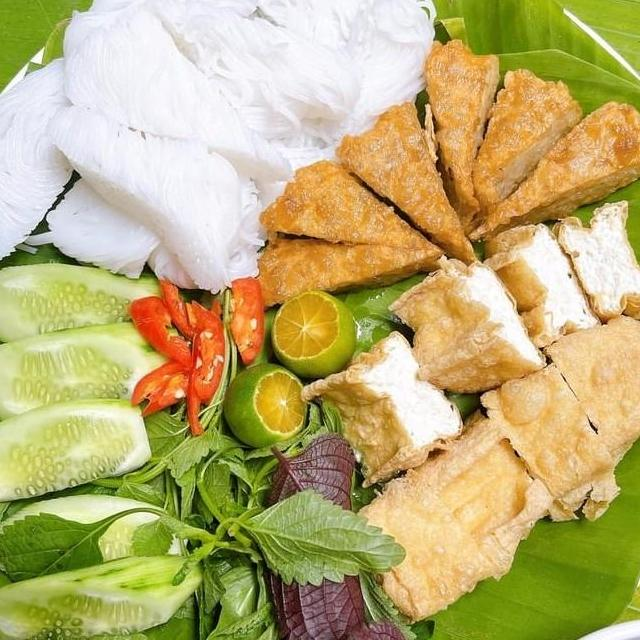bun: (0, 0, 449, 310), (452, 60, 640, 256), (325, 97, 479, 263), (417, 29, 508, 246)
bun dau: (0, 0, 640, 640)
cha com: (249, 153, 448, 318)
dau hu: (337, 404, 560, 632), (292, 323, 470, 491), (465, 354, 624, 532), (386, 247, 552, 398), (476, 215, 606, 362), (534, 304, 640, 468), (545, 195, 640, 338)
